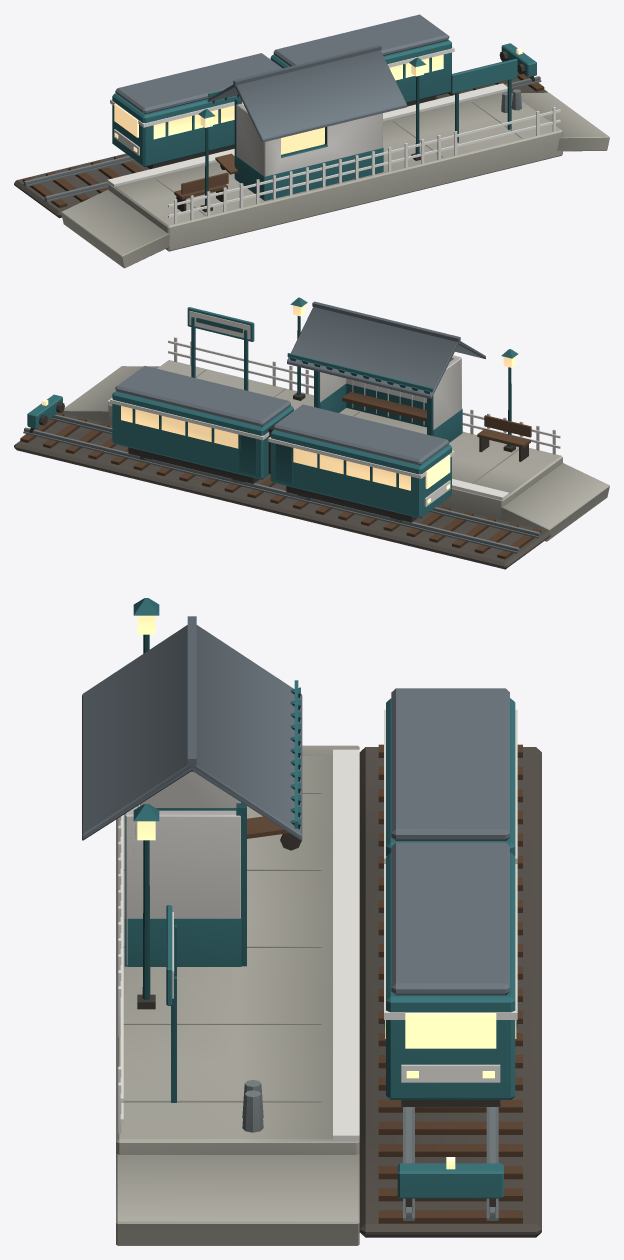
Rendered from village-halt.glb.
3 views of the same model, one above another, from view 1: azimuth 30°, elevation 25°; view 2: azimuth 150°, elevation 25°; view 3: azimuth 270°, elevation 25° (orthographic). The views are drawn at different scales.
Visible parts, largest first — view 1: Halt1, Halt2; view 2: Halt1, Halt2; view 3: Halt1, Halt2.
Boxes of the visible parts, <box> form: Halt1: <box>14,43,609,268</box>; Halt2: <box>110,14,454,169</box>; Halt1: <box>14,297,609,569</box>; Halt2: <box>110,363,454,522</box>; Halt1: <box>82,598,541,1245</box>; Halt2: <box>301,688,517,1106</box>.
Size of the model in its own units: 15 by 4.13 by 6.05.
